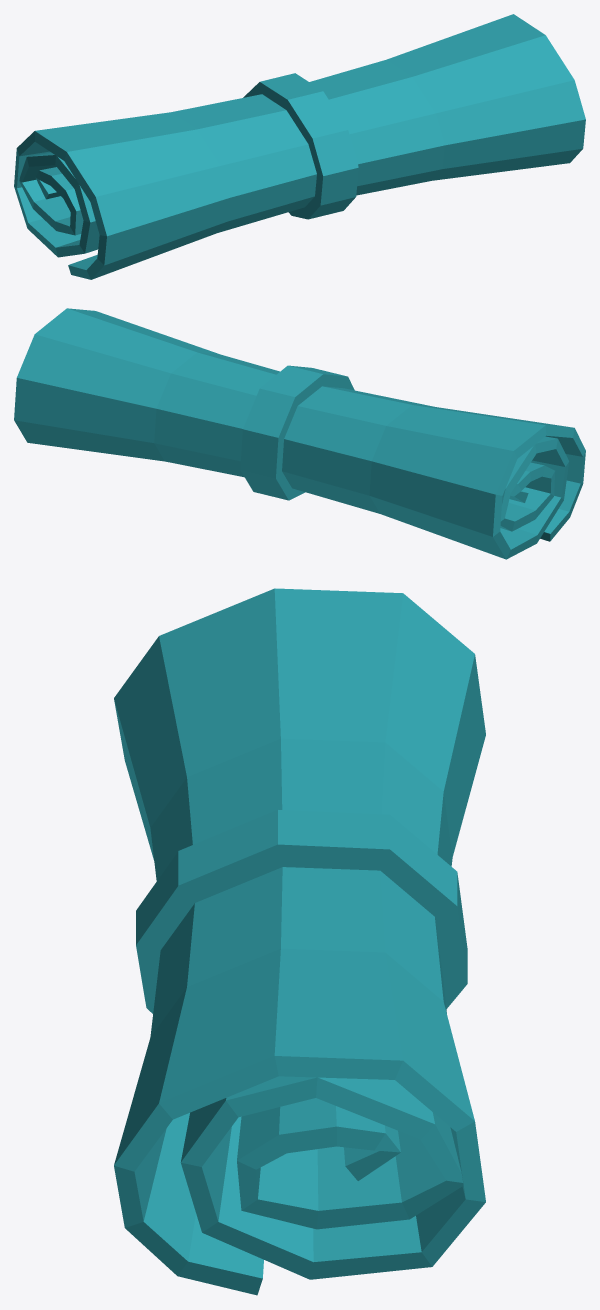
File: Scroll.008.fbx
The picture shows the model from 3 angles, top to bottom: view 1: azimuth 30°, elevation 25°; view 2: azimuth 150°, elevation 25°; view 3: azimuth 270°, elevation 25°; orthographic projection. The views are drawn at different scales.
Parts seen in each view (by area): view 1: Scroll.008; view 2: Scroll.008; view 3: Scroll.008.
Boxes of the visible parts, x1,y1,x2,y2 form: Scroll.008: [14, 14, 585, 279]; Scroll.008: [14, 308, 585, 559]; Scroll.008: [114, 588, 485, 1295].
Bounding box in the file's own units: 48.48 × 11.48 × 16.16.
